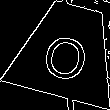O_N: (40, 21, 94, 81)
